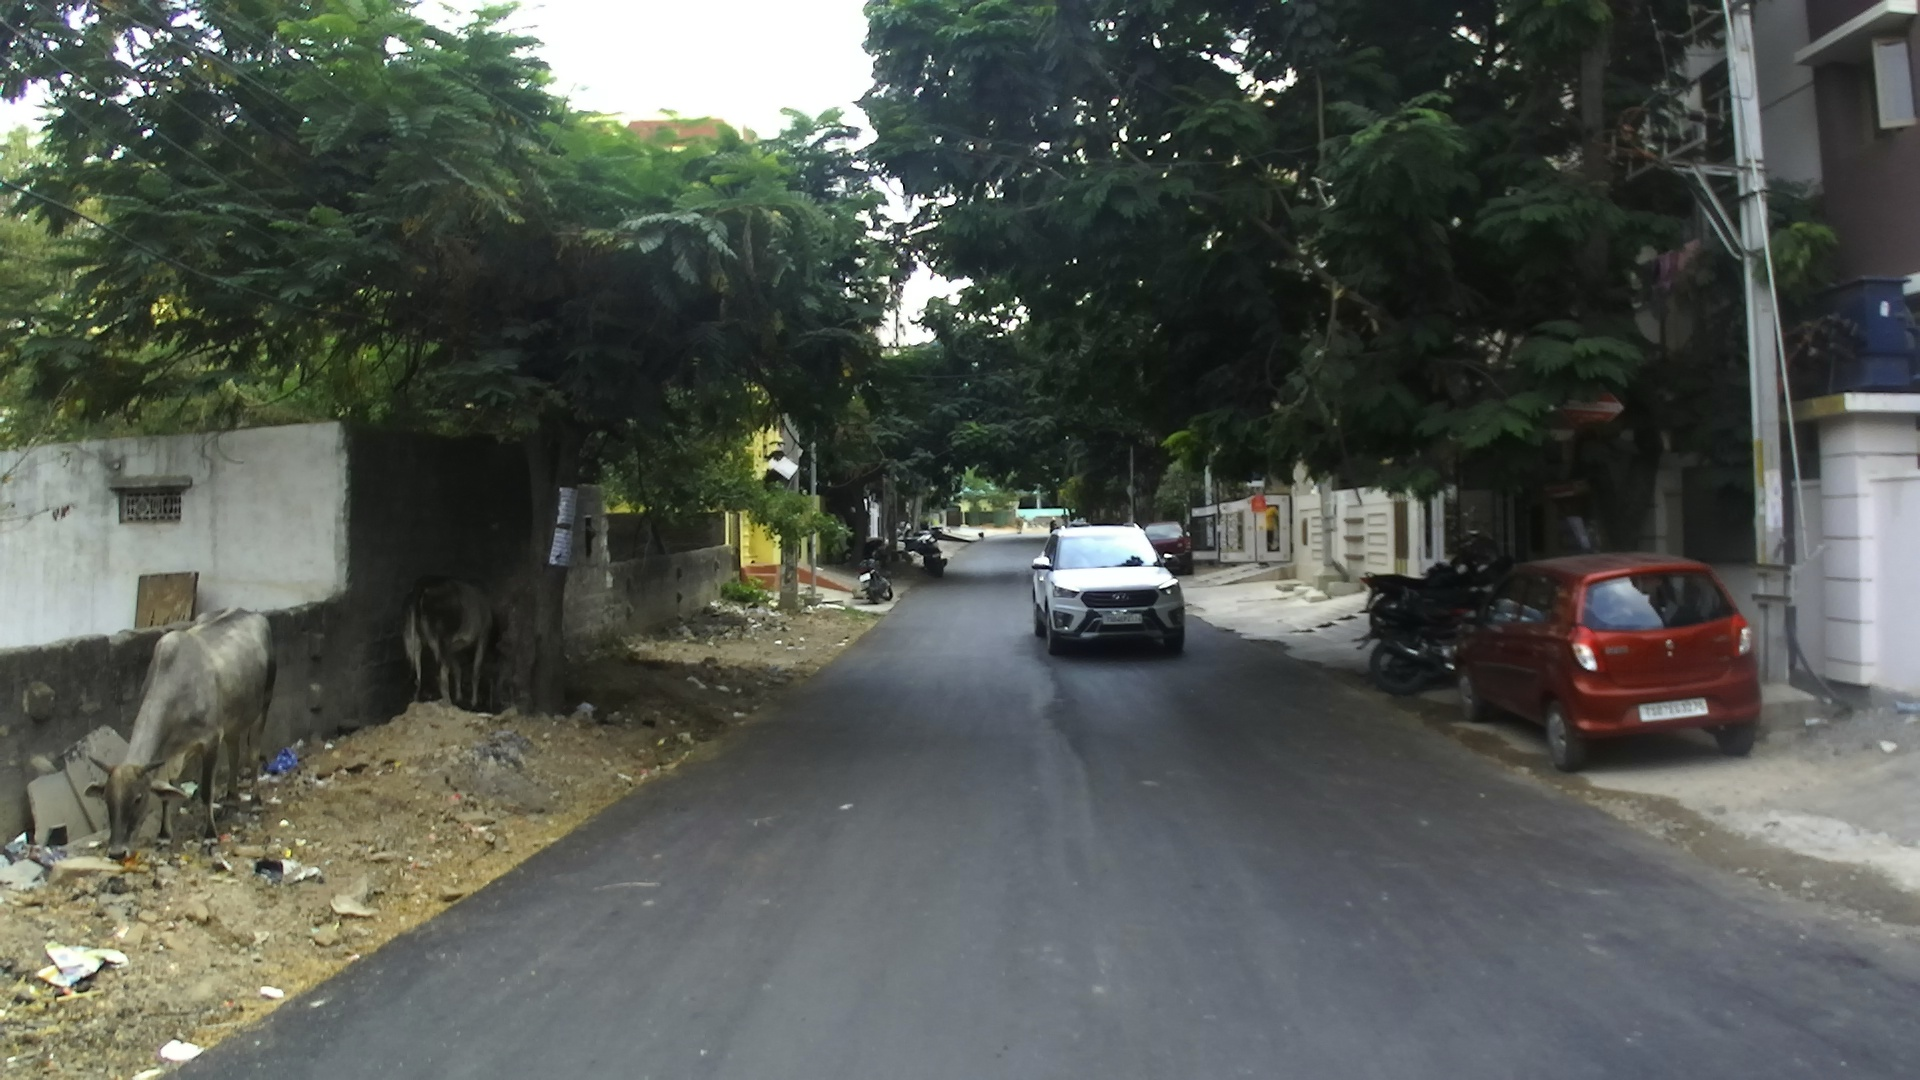vehicle: (1451, 549, 1764, 770), (1364, 545, 1509, 687), (1031, 524, 1187, 655), (1145, 525, 1191, 578), (903, 530, 947, 574)
